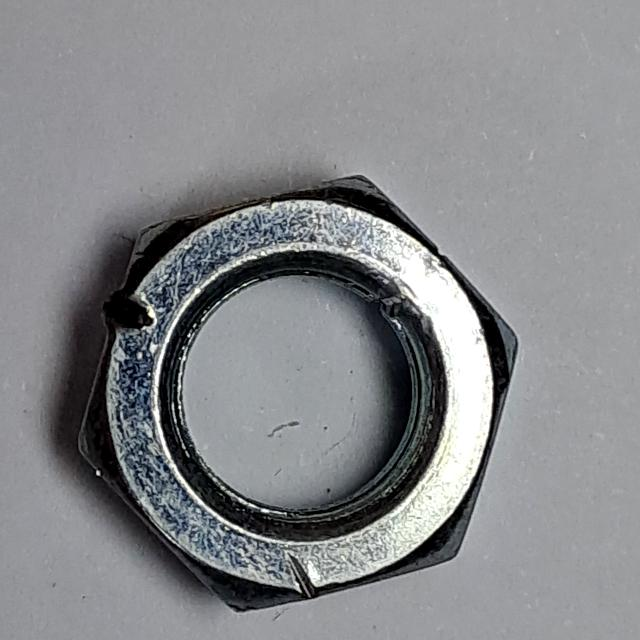Scratches: (62, 165, 532, 625)
